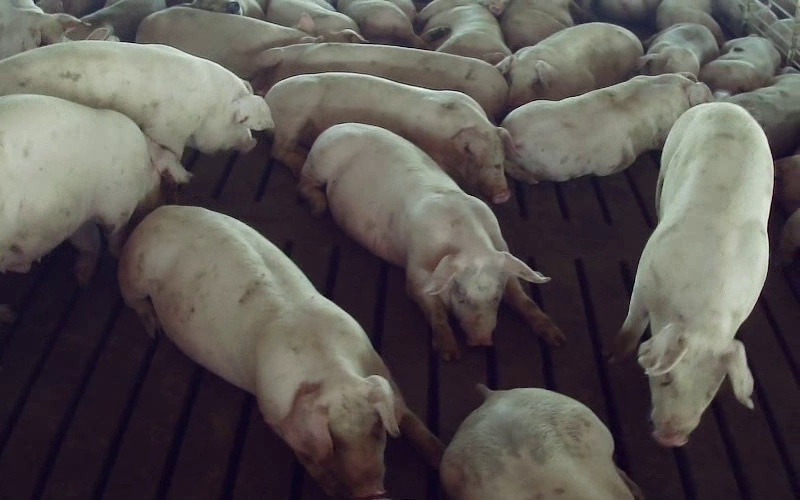pig: (301, 124, 562, 359), (618, 102, 772, 446), (265, 73, 509, 202), (502, 74, 713, 182), (440, 388, 638, 499), (253, 43, 508, 120), (136, 6, 314, 79), (498, 22, 642, 108), (721, 73, 799, 157), (416, 0, 510, 63), (698, 35, 780, 93), (265, 0, 365, 42), (640, 23, 718, 75), (337, 0, 422, 47), (500, 0, 573, 50)
